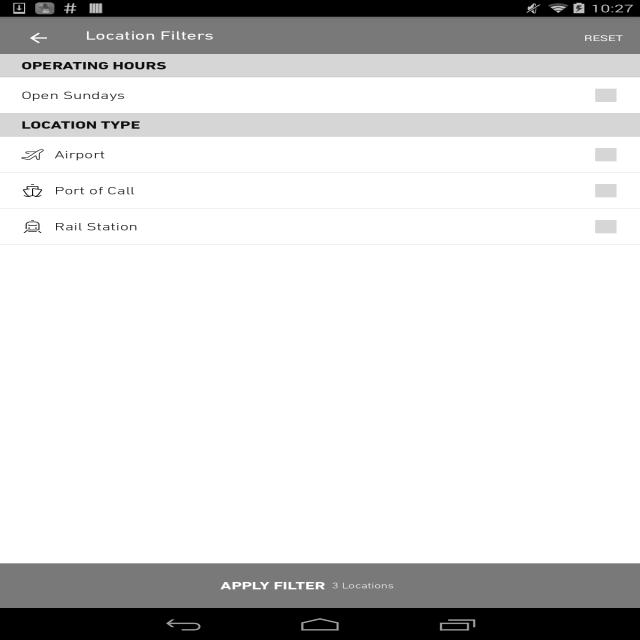CheckBox: (595, 89, 617, 102), (595, 148, 617, 161), (595, 184, 617, 197), (595, 220, 617, 233)
ImageButton: (9, 19, 68, 57)
ImageView: (21, 184, 44, 197), (21, 220, 44, 233), (21, 149, 44, 160)
TextView: (54, 148, 593, 161), (54, 184, 593, 197), (54, 220, 593, 233), (21, 89, 593, 101), (220, 563, 326, 608), (146, 121, 597, 131), (0, 54, 167, 77), (172, 62, 598, 71), (0, 113, 140, 136), (332, 563, 394, 608), (85, 28, 214, 42), (575, 22, 631, 54)
